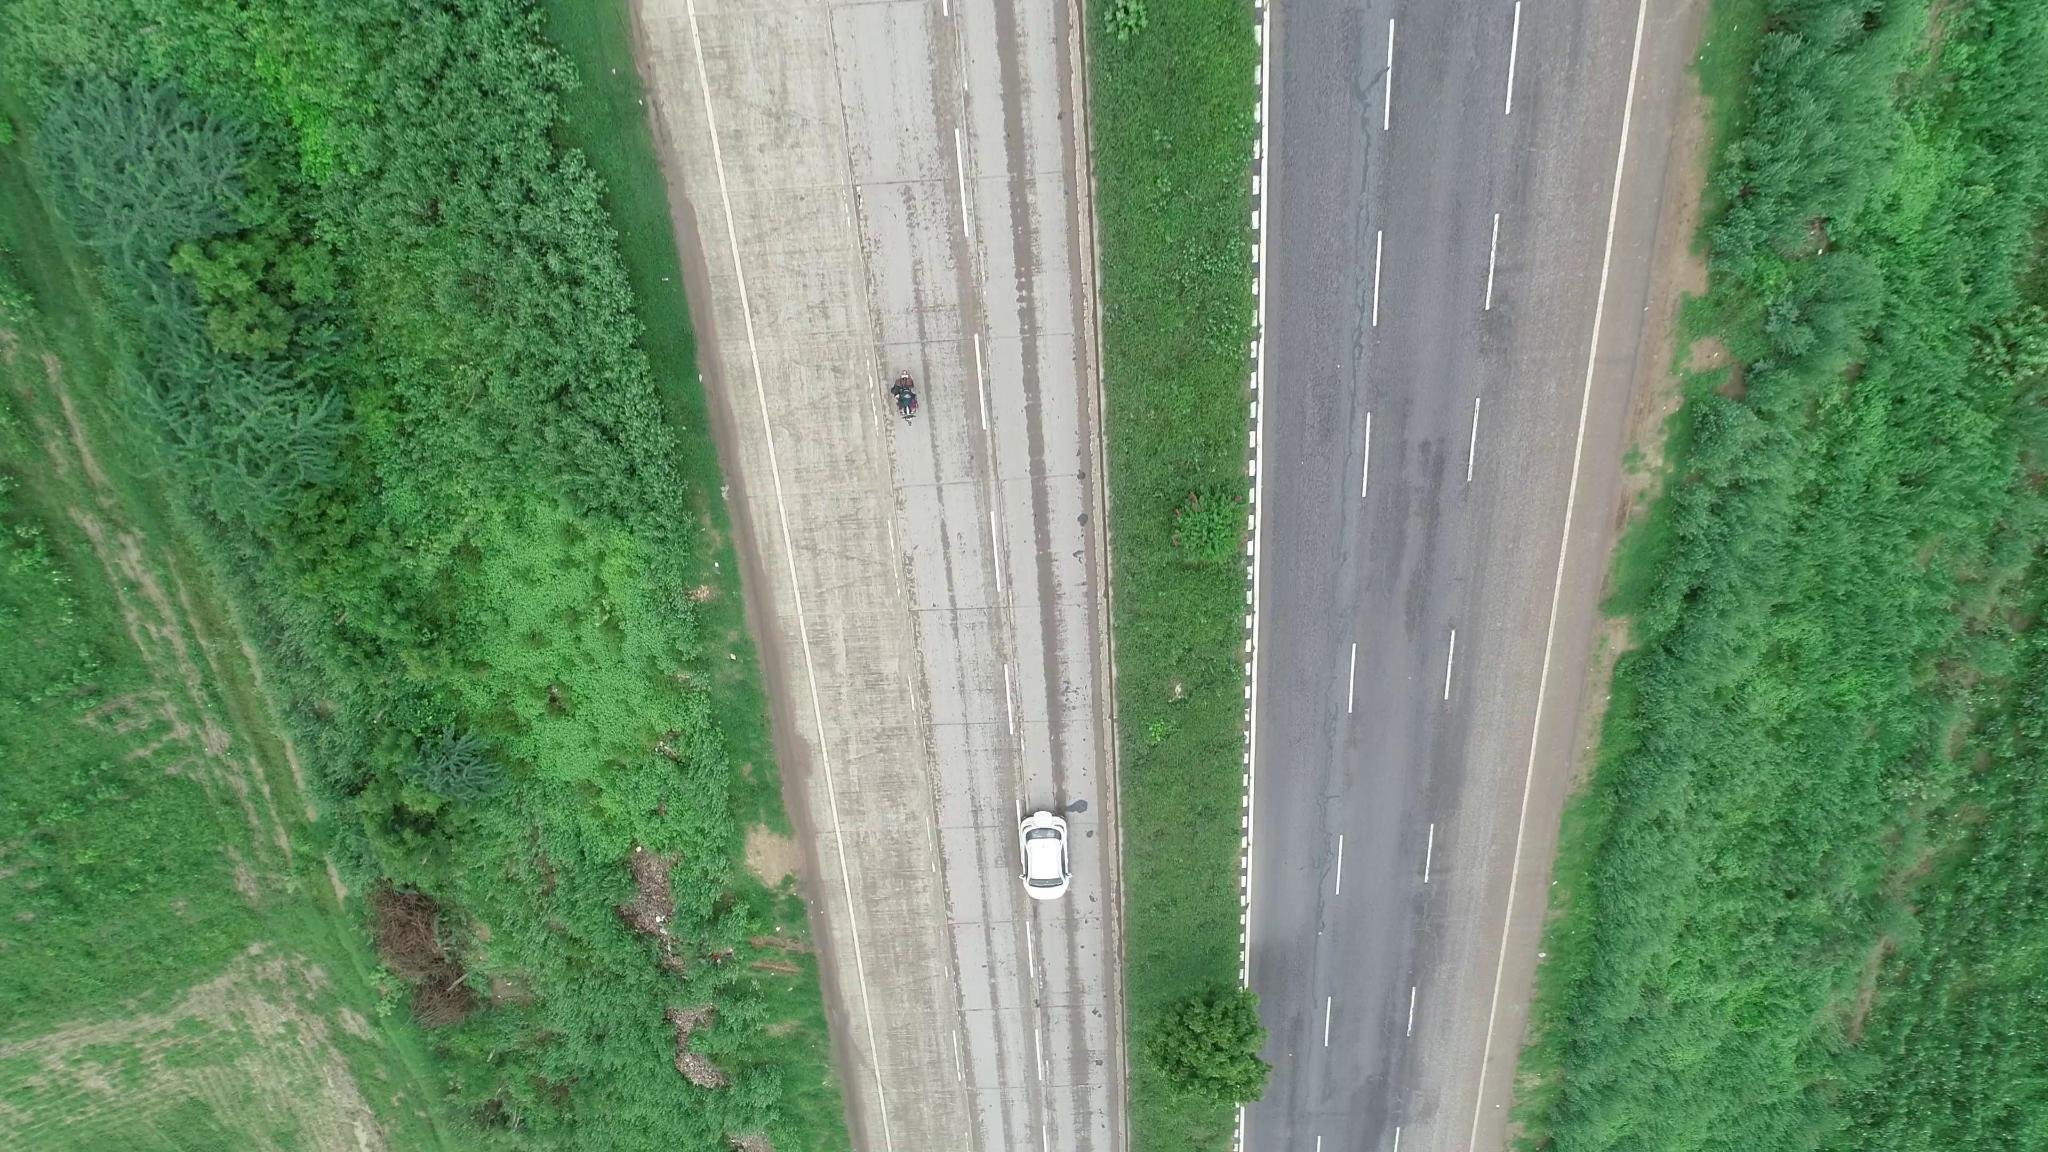Cracks: (1324, 145, 1381, 558), (1295, 696, 1345, 1114)
